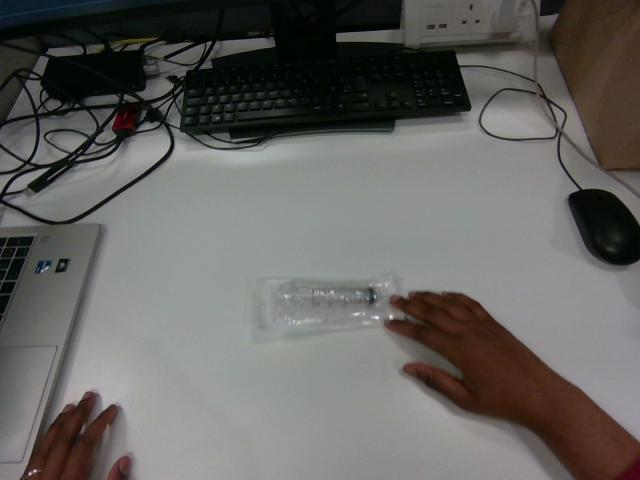syringe: (256, 276, 397, 332)
